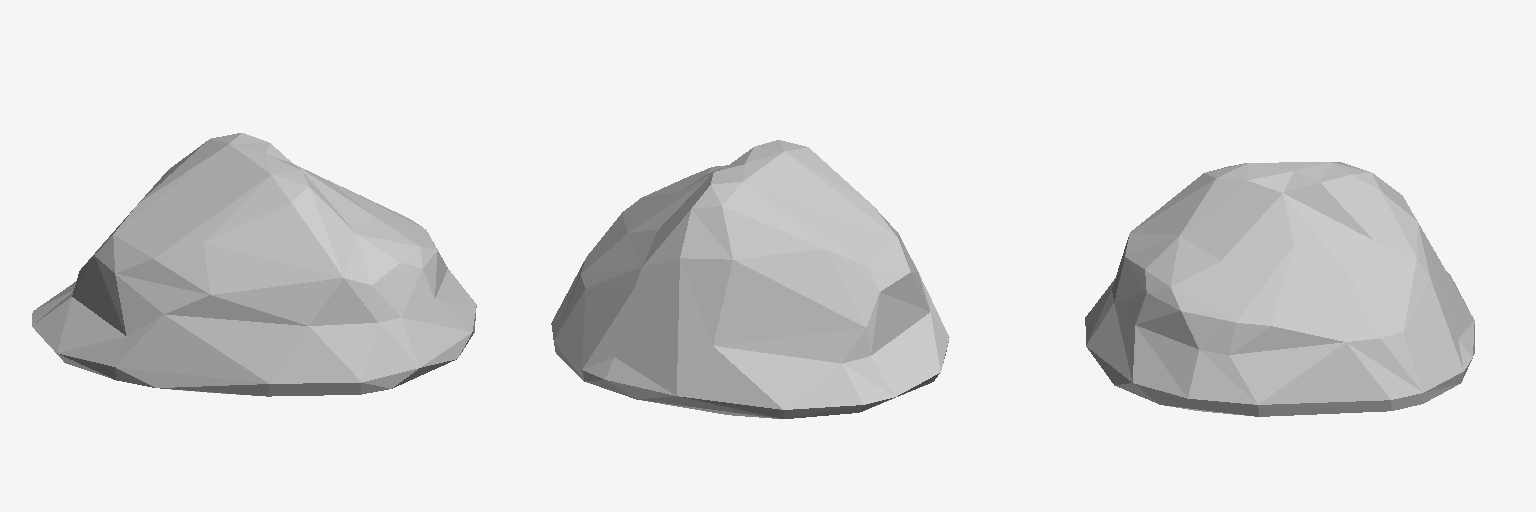
File: ChewedGum.obj
The picture shows the model from 3 angles: view 1: azimuth 30°, elevation 25°; view 2: azimuth 150°, elevation 25°; view 3: azimuth 270°, elevation 25°; orthographic projection.
Visible parts, largest first — view 1: ChewedGum; view 2: ChewedGum; view 3: ChewedGum.
Boxes of the visible parts, x1,y1,x2,y2 form: ChewedGum: [32, 133, 476, 396]; ChewedGum: [551, 140, 949, 418]; ChewedGum: [1085, 162, 1474, 416].
Bounding box in the file's own units: 1.62 × 0.7797 × 1.47.